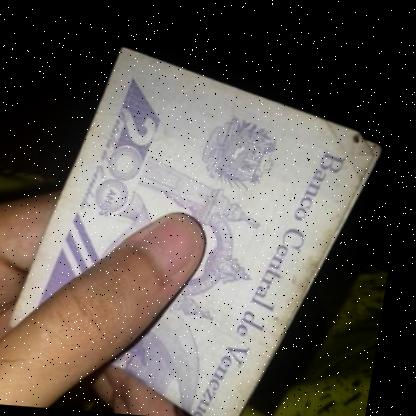ten-back-vef: (0, 37, 406, 416)
